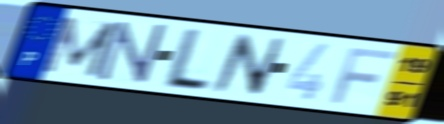4: (283, 41, 332, 103)
F: (328, 46, 399, 106)
L: (158, 26, 214, 94)
M: (38, 14, 122, 80)
N: (209, 32, 289, 99), (95, 20, 169, 86)
